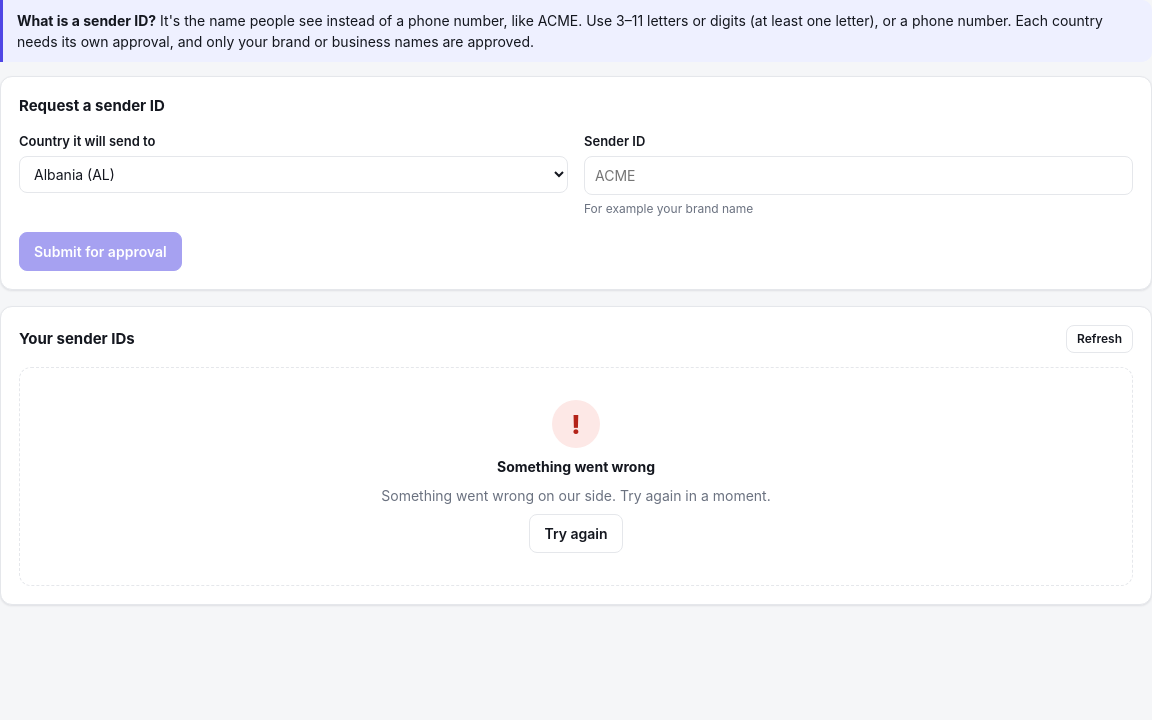
Scenario: filters, pagination, empty, loading, errors › 30 error state with retry recovers
Expected: the text "Something went wrong" is shown, [497, 456, 655, 477]
Click the button "Try again" at (576, 534), box [530, 514, 623, 553]
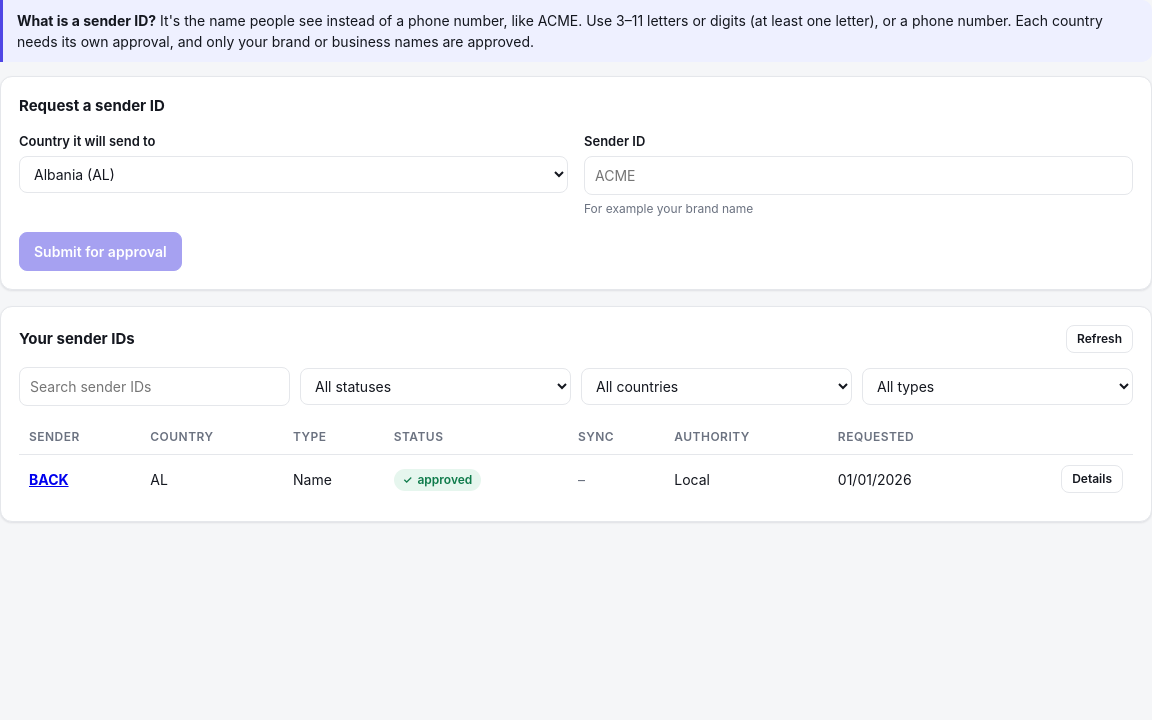
Now the text "BACK" is shown, box [29, 470, 69, 488]
